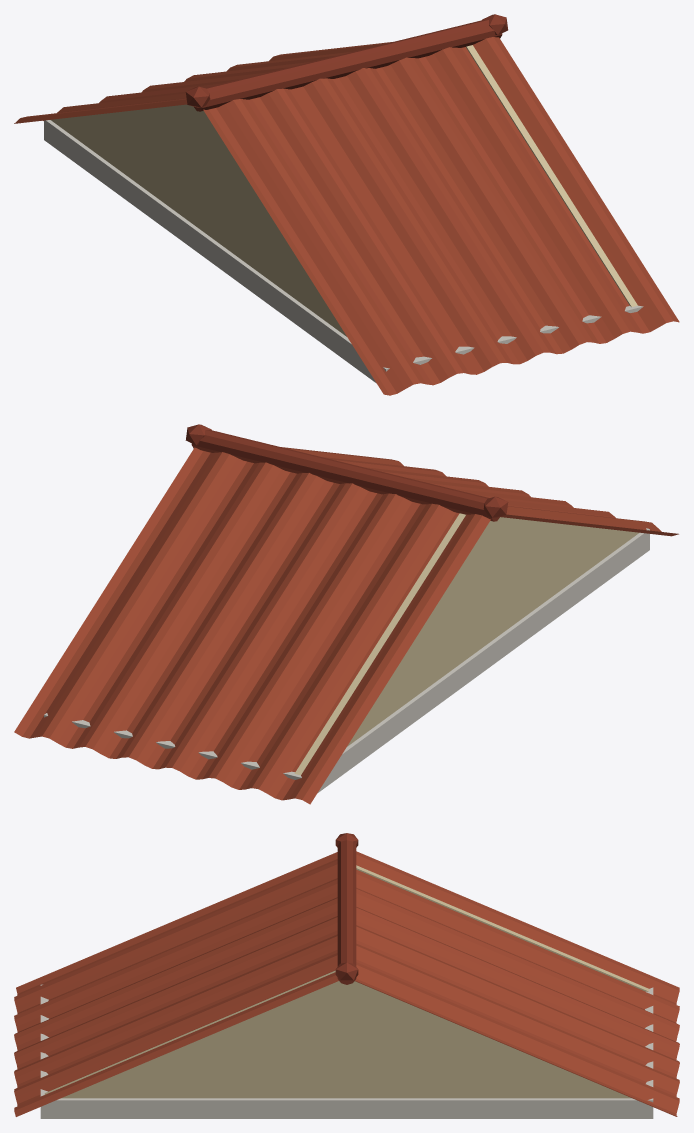
File: mai_ngoi_32.glb
3 renders of one model, top to bottom at view 1: azimuth 30°, elevation 25°; view 2: azimuth 150°, elevation 25°; view 3: azimuth 270°, elevation 25°, orthographic. The views are drawn at different scales.
Parts seen in each view (by area): view 1: mai_ngoi_32; view 2: mai_ngoi_32; view 3: mai_ngoi_32.
Boxes of the visible parts, left/top/right/bottom form: mai_ngoi_32: left=14, top=14, right=679, bottom=395; mai_ngoi_32: left=14, top=424, right=678, bottom=804; mai_ngoi_32: left=14, top=833, right=679, bottom=1118.
Bounding box in the file's own units: 3.99 × 2.18 × 8.04.
